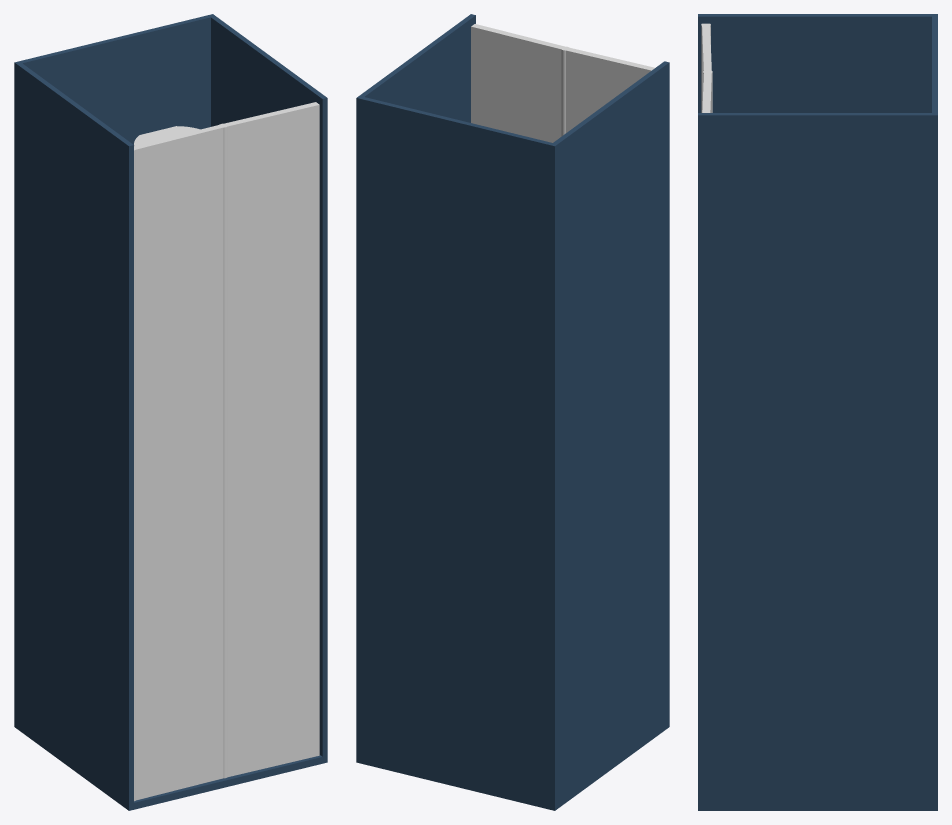
The model's file is cubicle_gonnarig_open.fbx.
3 views of the same model, side by side, from view 1: azimuth 30°, elevation 25°; view 2: azimuth 150°, elevation 25°; view 3: azimuth 270°, elevation 25° (orthographic). The views are drawn at different scales.
Visible parts, largest first — view 1: Cube, Cylinder.007, Cylinder.006, Cylinder.002; view 2: Cube, Cylinder.007, Cylinder.006; view 3: Cube, Cylinder.006.
Boxes of the visible parts, x1,y1,x2,y2 form: Cube: (14, 14, 327, 810); Cylinder.007: (219, 102, 319, 778); Cylinder.006: (134, 124, 223, 801); Cylinder.002: (134, 126, 200, 146); Cube: (356, 14, 669, 810); Cylinder.007: (471, 24, 569, 142); Cylinder.006: (566, 48, 654, 132); Cube: (698, 14, 937, 810); Cylinder.006: (701, 23, 711, 112).
Bounding box in the file's own units: 600 × 1920 × 600.
